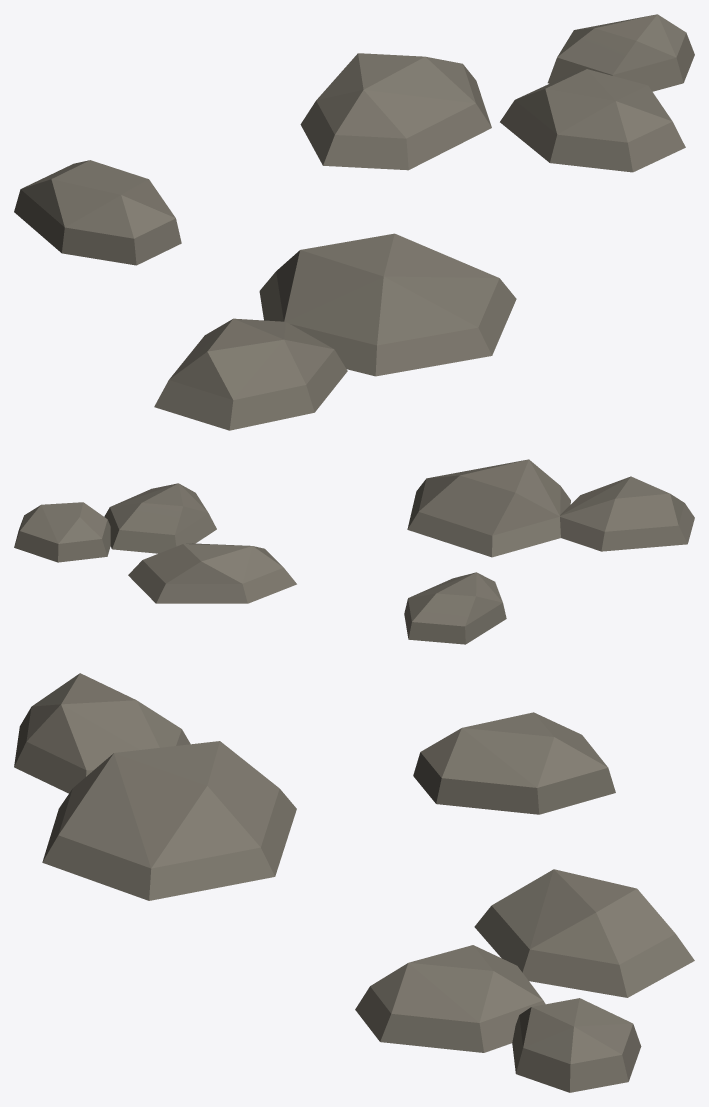
File: rock__pebbles4_caves_light.glb
3 renders of one model, top to bottom at view 1: azimuth 30°, elevation 25°; view 2: azimuth 150°, elevation 25°; view 3: azimuth 270°, elevation 25°, orthographic. The views are drawn at different scales.
Visible parts, largest first — view 1: pebbles4.caves.light; view 2: pebbles4.caves.light; view 3: pebbles4.caves.light.
Boxes of the visible parts, box(x1,y1,x2,y2) form: pebbles4.caves.light: box(14, 14, 694, 430); pebbles4.caves.light: box(14, 459, 694, 644); pebbles4.caves.light: box(14, 673, 694, 1092).
Bounding box in the file's own units: 2.21 × 0.1985 × 1.67.
Materials: 1 (1 with a texture image).
